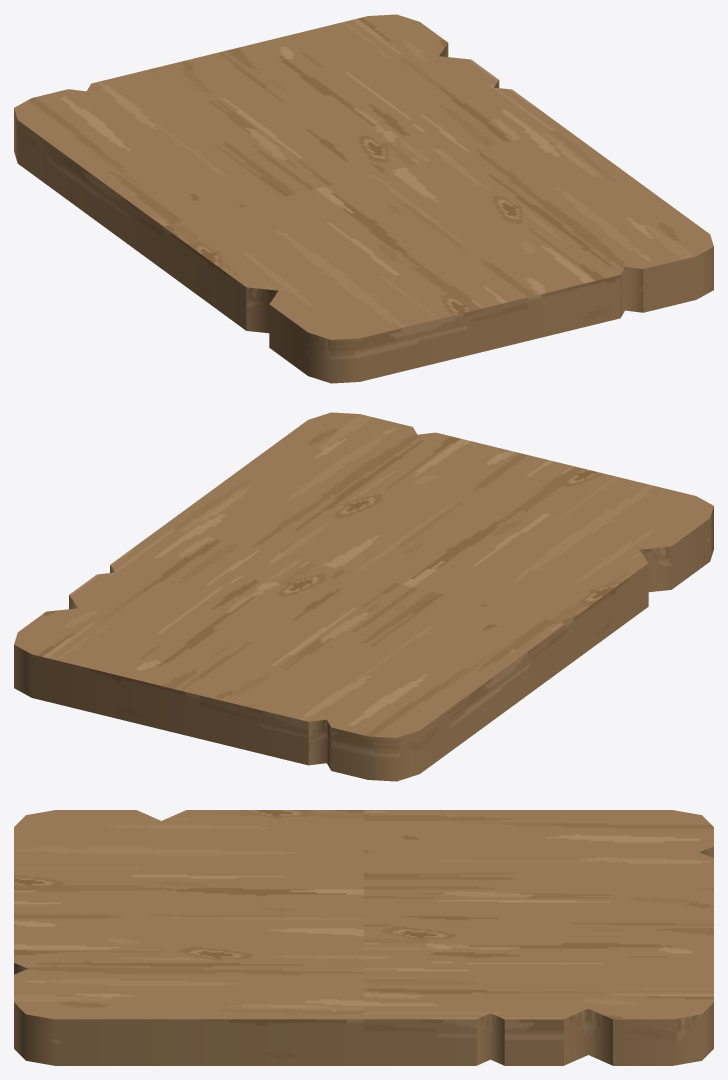
Rendered from cutting-board.gltf.
3 views of the same model, one above another, from view 1: azimuth 30°, elevation 25°; view 2: azimuth 150°, elevation 25°; view 3: azimuth 270°, elevation 25° (orthographic). The views are drawn at different scales.
Visible parts, largest first — view 1: cutting-board; view 2: cutting-board; view 3: cutting-board.
Part boxes in pixels (x1=…): cutting-board: x1=14, y1=14, x2=713, y2=383; cutting-board: x1=14, y1=412, x2=713, y2=781; cutting-board: x1=14, y1=810, x2=713, y2=1065.
Bounding box in the file's own units: 0.58 × 0.06 × 0.82.
Materials: 1 (1 with a texture image).
